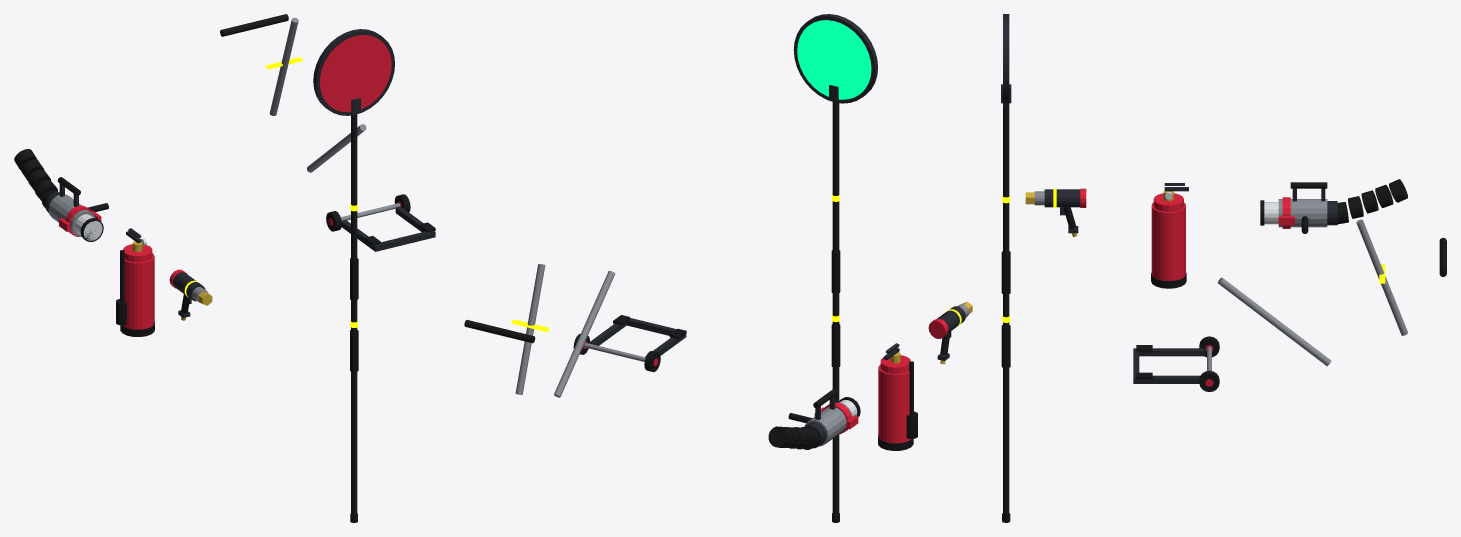
File: pit_equipment_pack.glb
3 views of the same model, side by side, from view 1: azimuth 30°, elevation 25°; view 2: azimuth 150°, elevation 25°; view 3: azimuth 270°, elevation 25° (orthographic). The views are drawn at different scales.
Parts seen in each view (by area): view 1: Prop_LollipopBoard, Prop_QuickJack, Prop_FireExtinguisher, Prop_FuelNozzle, Prop_WheelGun; view 2: Prop_LollipopBoard, Prop_QuickJack, Prop_FireExtinguisher, Prop_FuelNozzle, Prop_WheelGun; view 3: Prop_QuickJack, Prop_FuelNozzle, Prop_LollipopBoard, Prop_FireExtinguisher, Prop_WheelGun.
Boxes of the visible parts, <box> form: Prop_LollipopBoard: <box>313,29,394,522</box>; Prop_QuickJack: <box>220,14,435,251</box>; Prop_FireExtinguisher: <box>116,228,154,336</box>; Prop_FuelNozzle: <box>14,149,108,241</box>; Prop_WheelGun: <box>169,269,212,320</box>; Prop_LollipopBoard: <box>793,14,877,522</box>; Prop_QuickJack: <box>464,264,686,397</box>; Prop_FireExtinguisher: <box>878,343,917,450</box>; Prop_FuelNozzle: <box>768,389,860,449</box>; Prop_WheelGun: <box>928,301,972,364</box>; Prop_QuickJack: <box>1133,219,1446,391</box>; Prop_FuelNozzle: <box>1260,179,1407,233</box>; Prop_LollipopBoard: <box>1001,14,1011,522</box>; Prop_FireExtinguisher: <box>1151,183,1188,288</box>; Prop_WheelGun: <box>1025,188,1086,236</box>.
Bounding box in the file's own units: 1.8 × 2.73 × 2.19.
